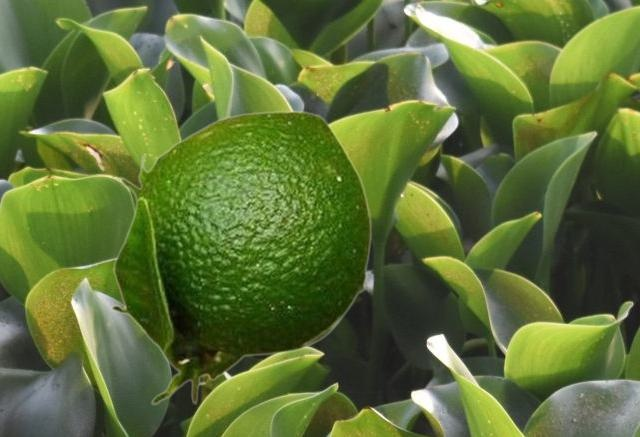dalandan: (109, 110, 371, 405)
